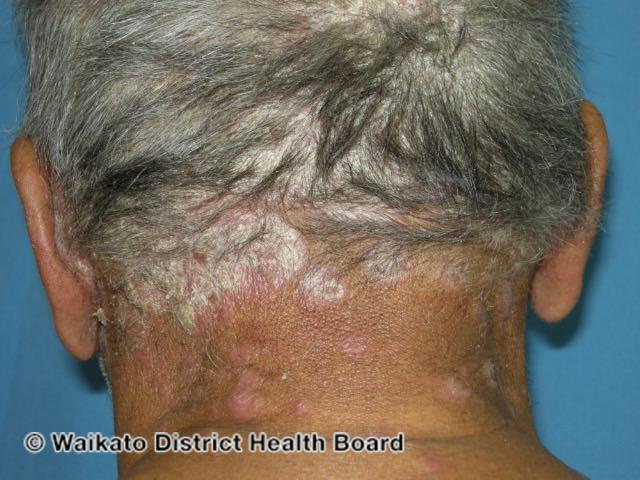Psoriasis: (75, 216, 528, 413)
